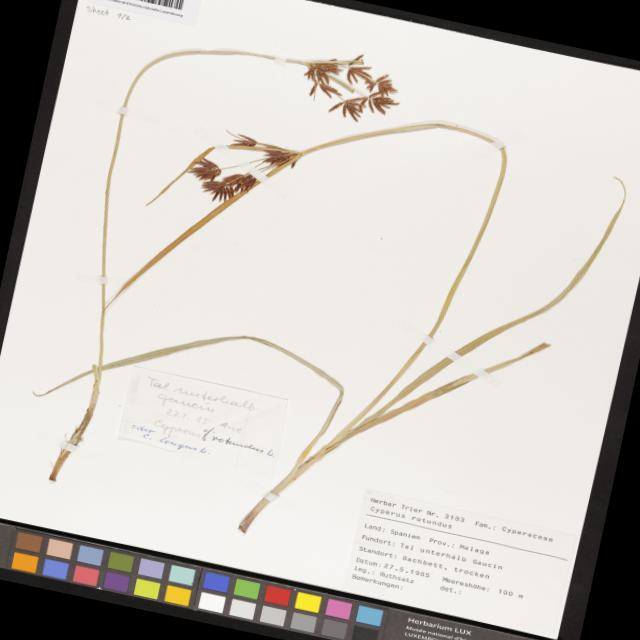cyperus: (286, 36, 406, 130)
